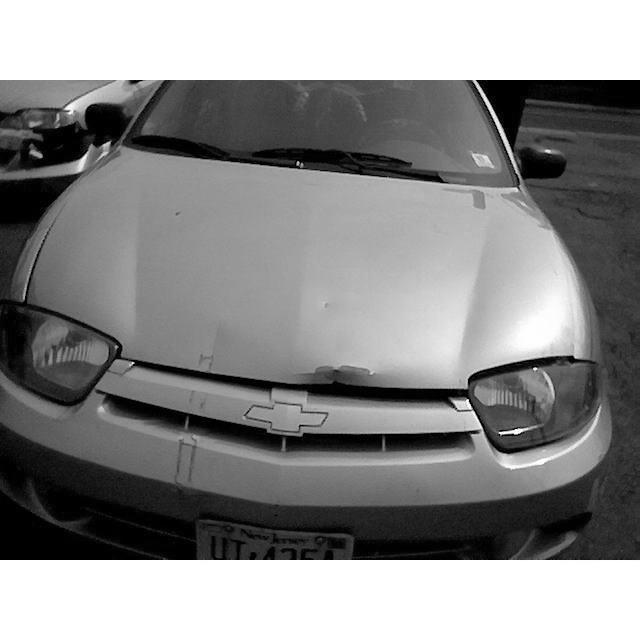bonnet-dent: (49, 140, 588, 386)
front-bumper-dent: (77, 353, 491, 559)
